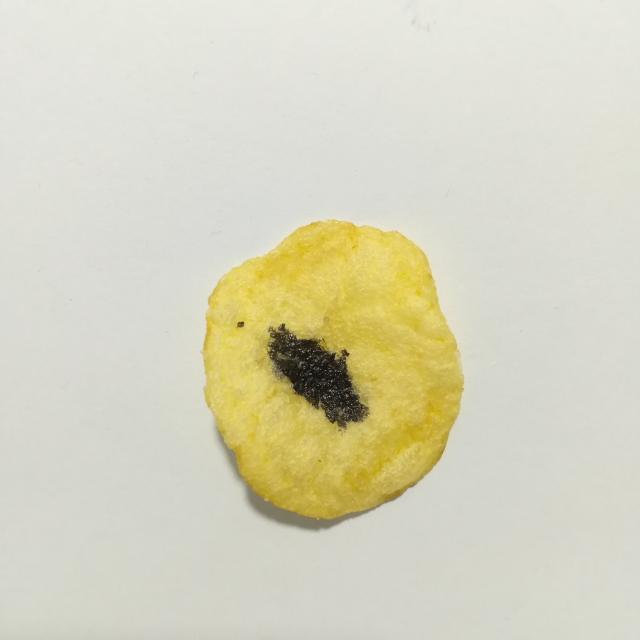chip: (203, 220, 463, 518)
damaged: (267, 323, 369, 429), (237, 321, 244, 327)
